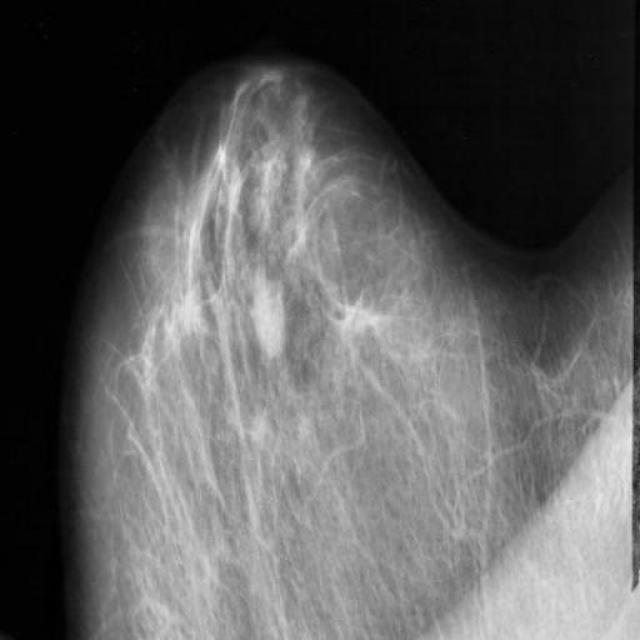cancer: (224, 222, 308, 398)
